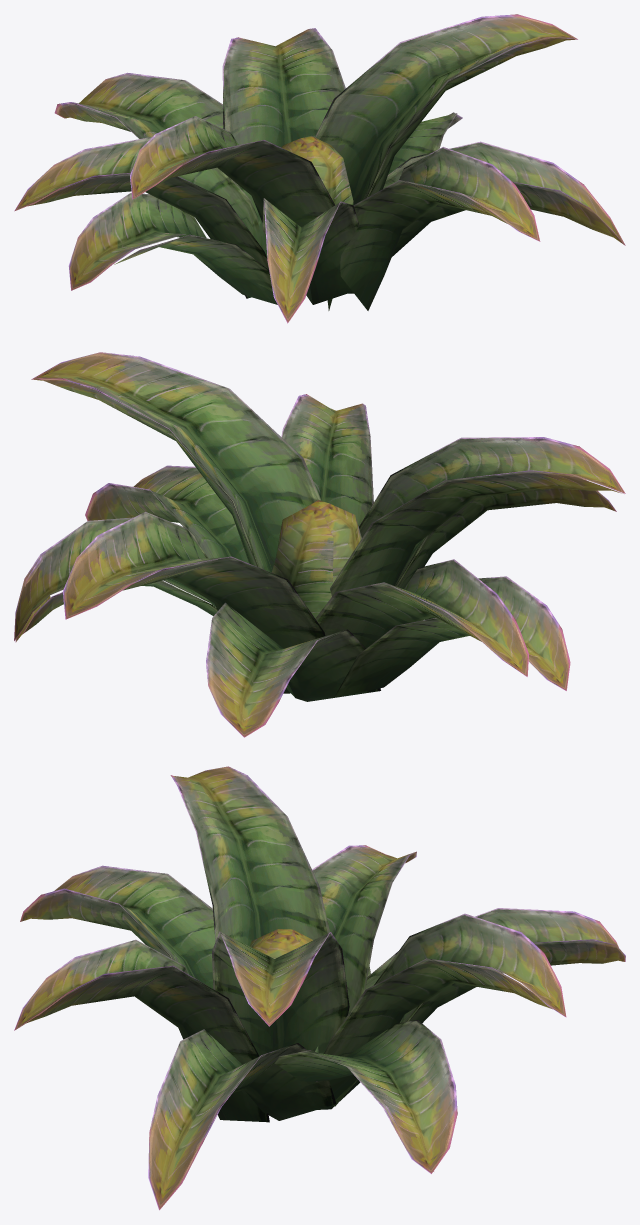
File: dro_jungleleaf.glb
3 views of the same model, one above another, from view 1: azimuth 30°, elevation 25°; view 2: azimuth 150°, elevation 25°; view 3: azimuth 270°, elevation 25° (orthographic). The views are drawn at different scales.
Visible parts, largest first — view 1: dro_jungleleaf; view 2: dro_jungleleaf; view 3: dro_jungleleaf.
Boxes of the visible parts, <box> form: dro_jungleleaf: <box>14,14,625,323</box>; dro_jungleleaf: <box>14,352,625,737</box>; dro_jungleleaf: <box>14,766,625,1210</box>.
Bounding box in the file's own units: 0.7812 × 0.3374 × 0.753.
Materials: 1 (1 with a texture image).
